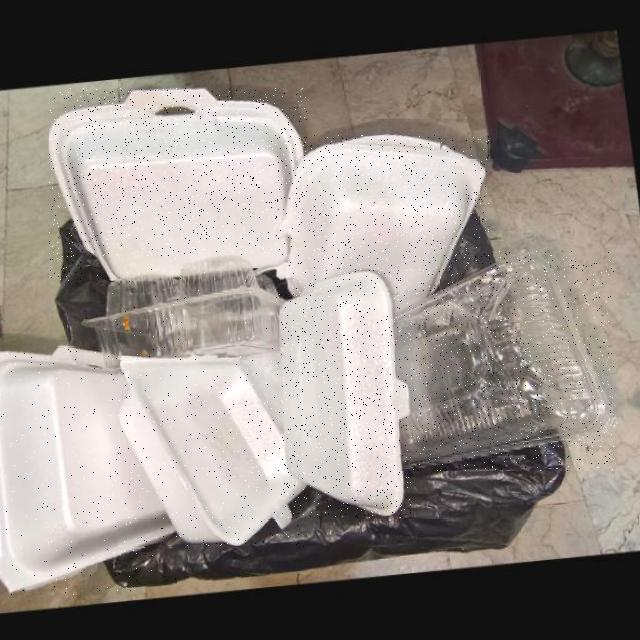plastic: (396, 251, 614, 470), (83, 256, 286, 368)
styrofoam: (49, 88, 307, 284), (0, 347, 177, 594), (278, 135, 489, 316), (119, 356, 306, 547), (281, 270, 411, 518)
